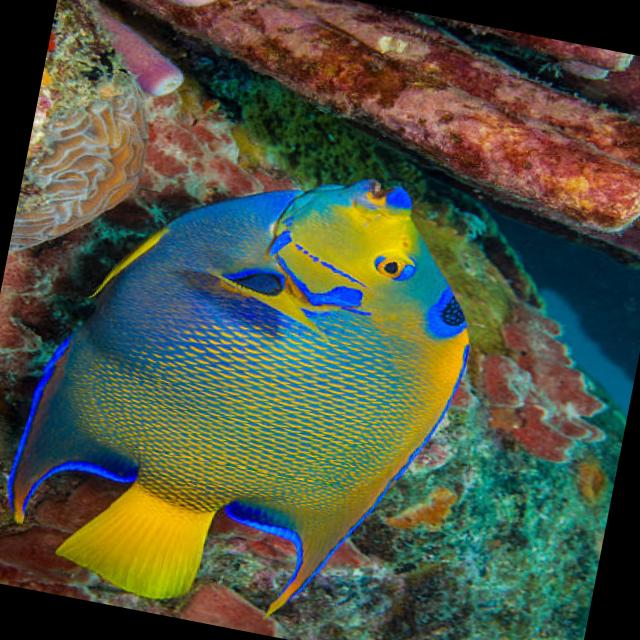AngelFish: (0, 124, 495, 640)
